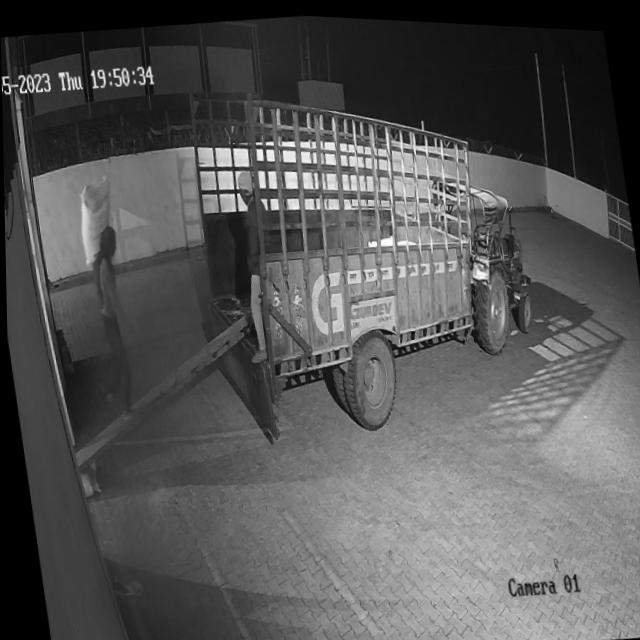sack: (72, 170, 122, 271)
